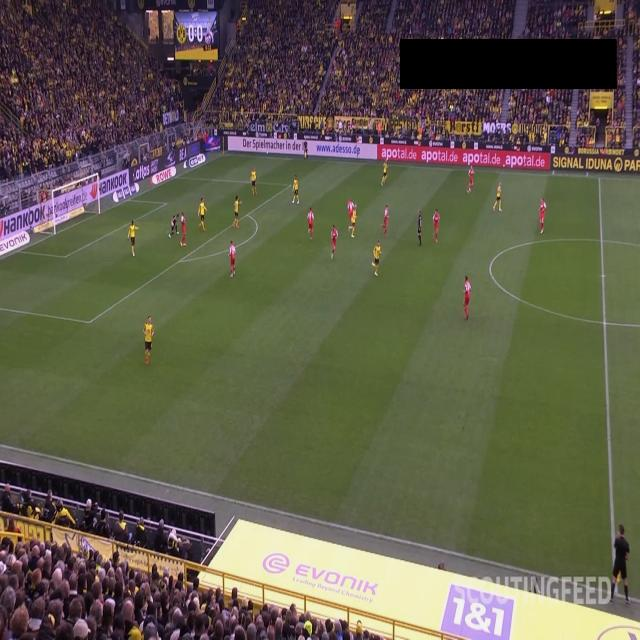ball: (170, 220, 176, 232)
f_player: (144, 315, 156, 365), (126, 220, 138, 258), (464, 278, 474, 320), (230, 195, 242, 229), (372, 241, 382, 279), (228, 242, 238, 280), (347, 200, 357, 238), (538, 198, 548, 234), (379, 160, 390, 191), (198, 199, 208, 233), (179, 214, 189, 248), (381, 206, 391, 238), (331, 225, 340, 259), (495, 184, 505, 214), (292, 177, 302, 206), (433, 210, 441, 244), (307, 210, 315, 240), (250, 167, 258, 196), (468, 164, 476, 192), (168, 216, 178, 238)
umpire: (612, 525, 632, 603), (416, 211, 424, 246), (302, 139, 310, 164)
